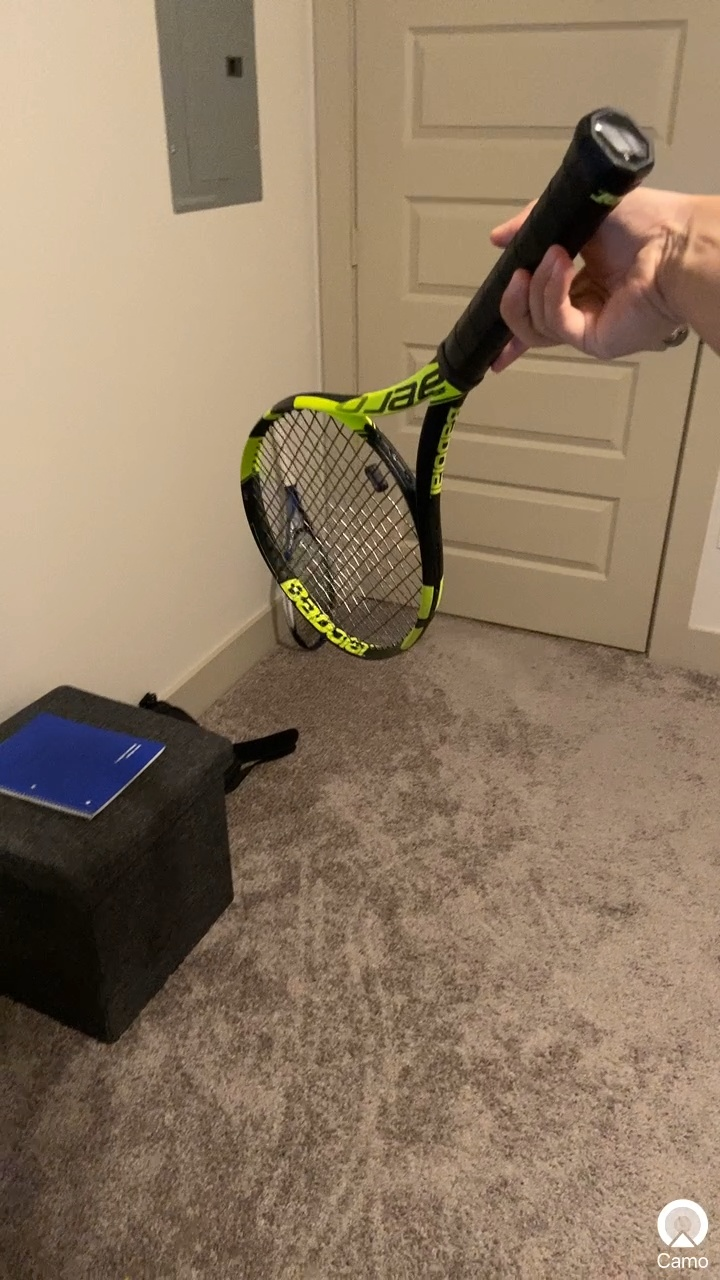Tennis_Racquet: (211, 89, 673, 685)
